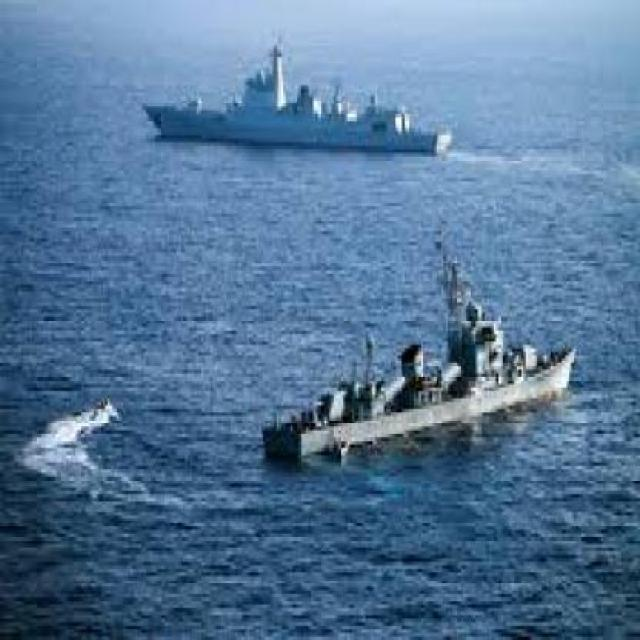warship2: (262, 264, 591, 506), (133, 19, 489, 186)
